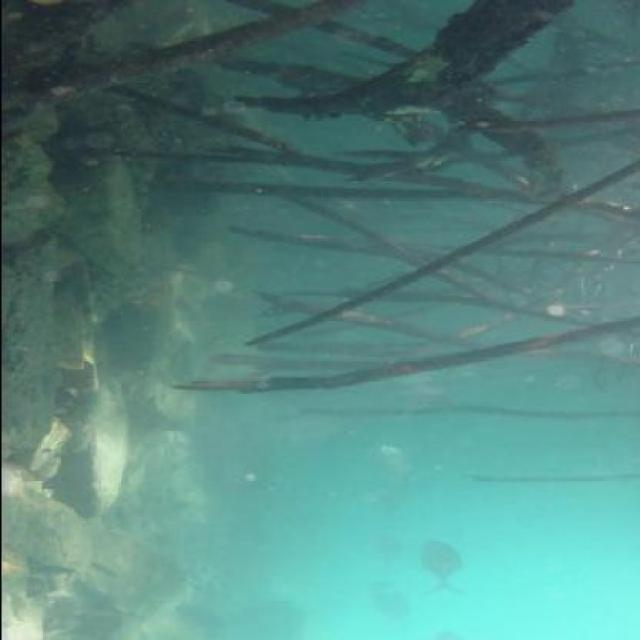Caranx_sexfasciatus_juvenile: (410, 542, 468, 601), (370, 442, 424, 484), (362, 587, 413, 627)
